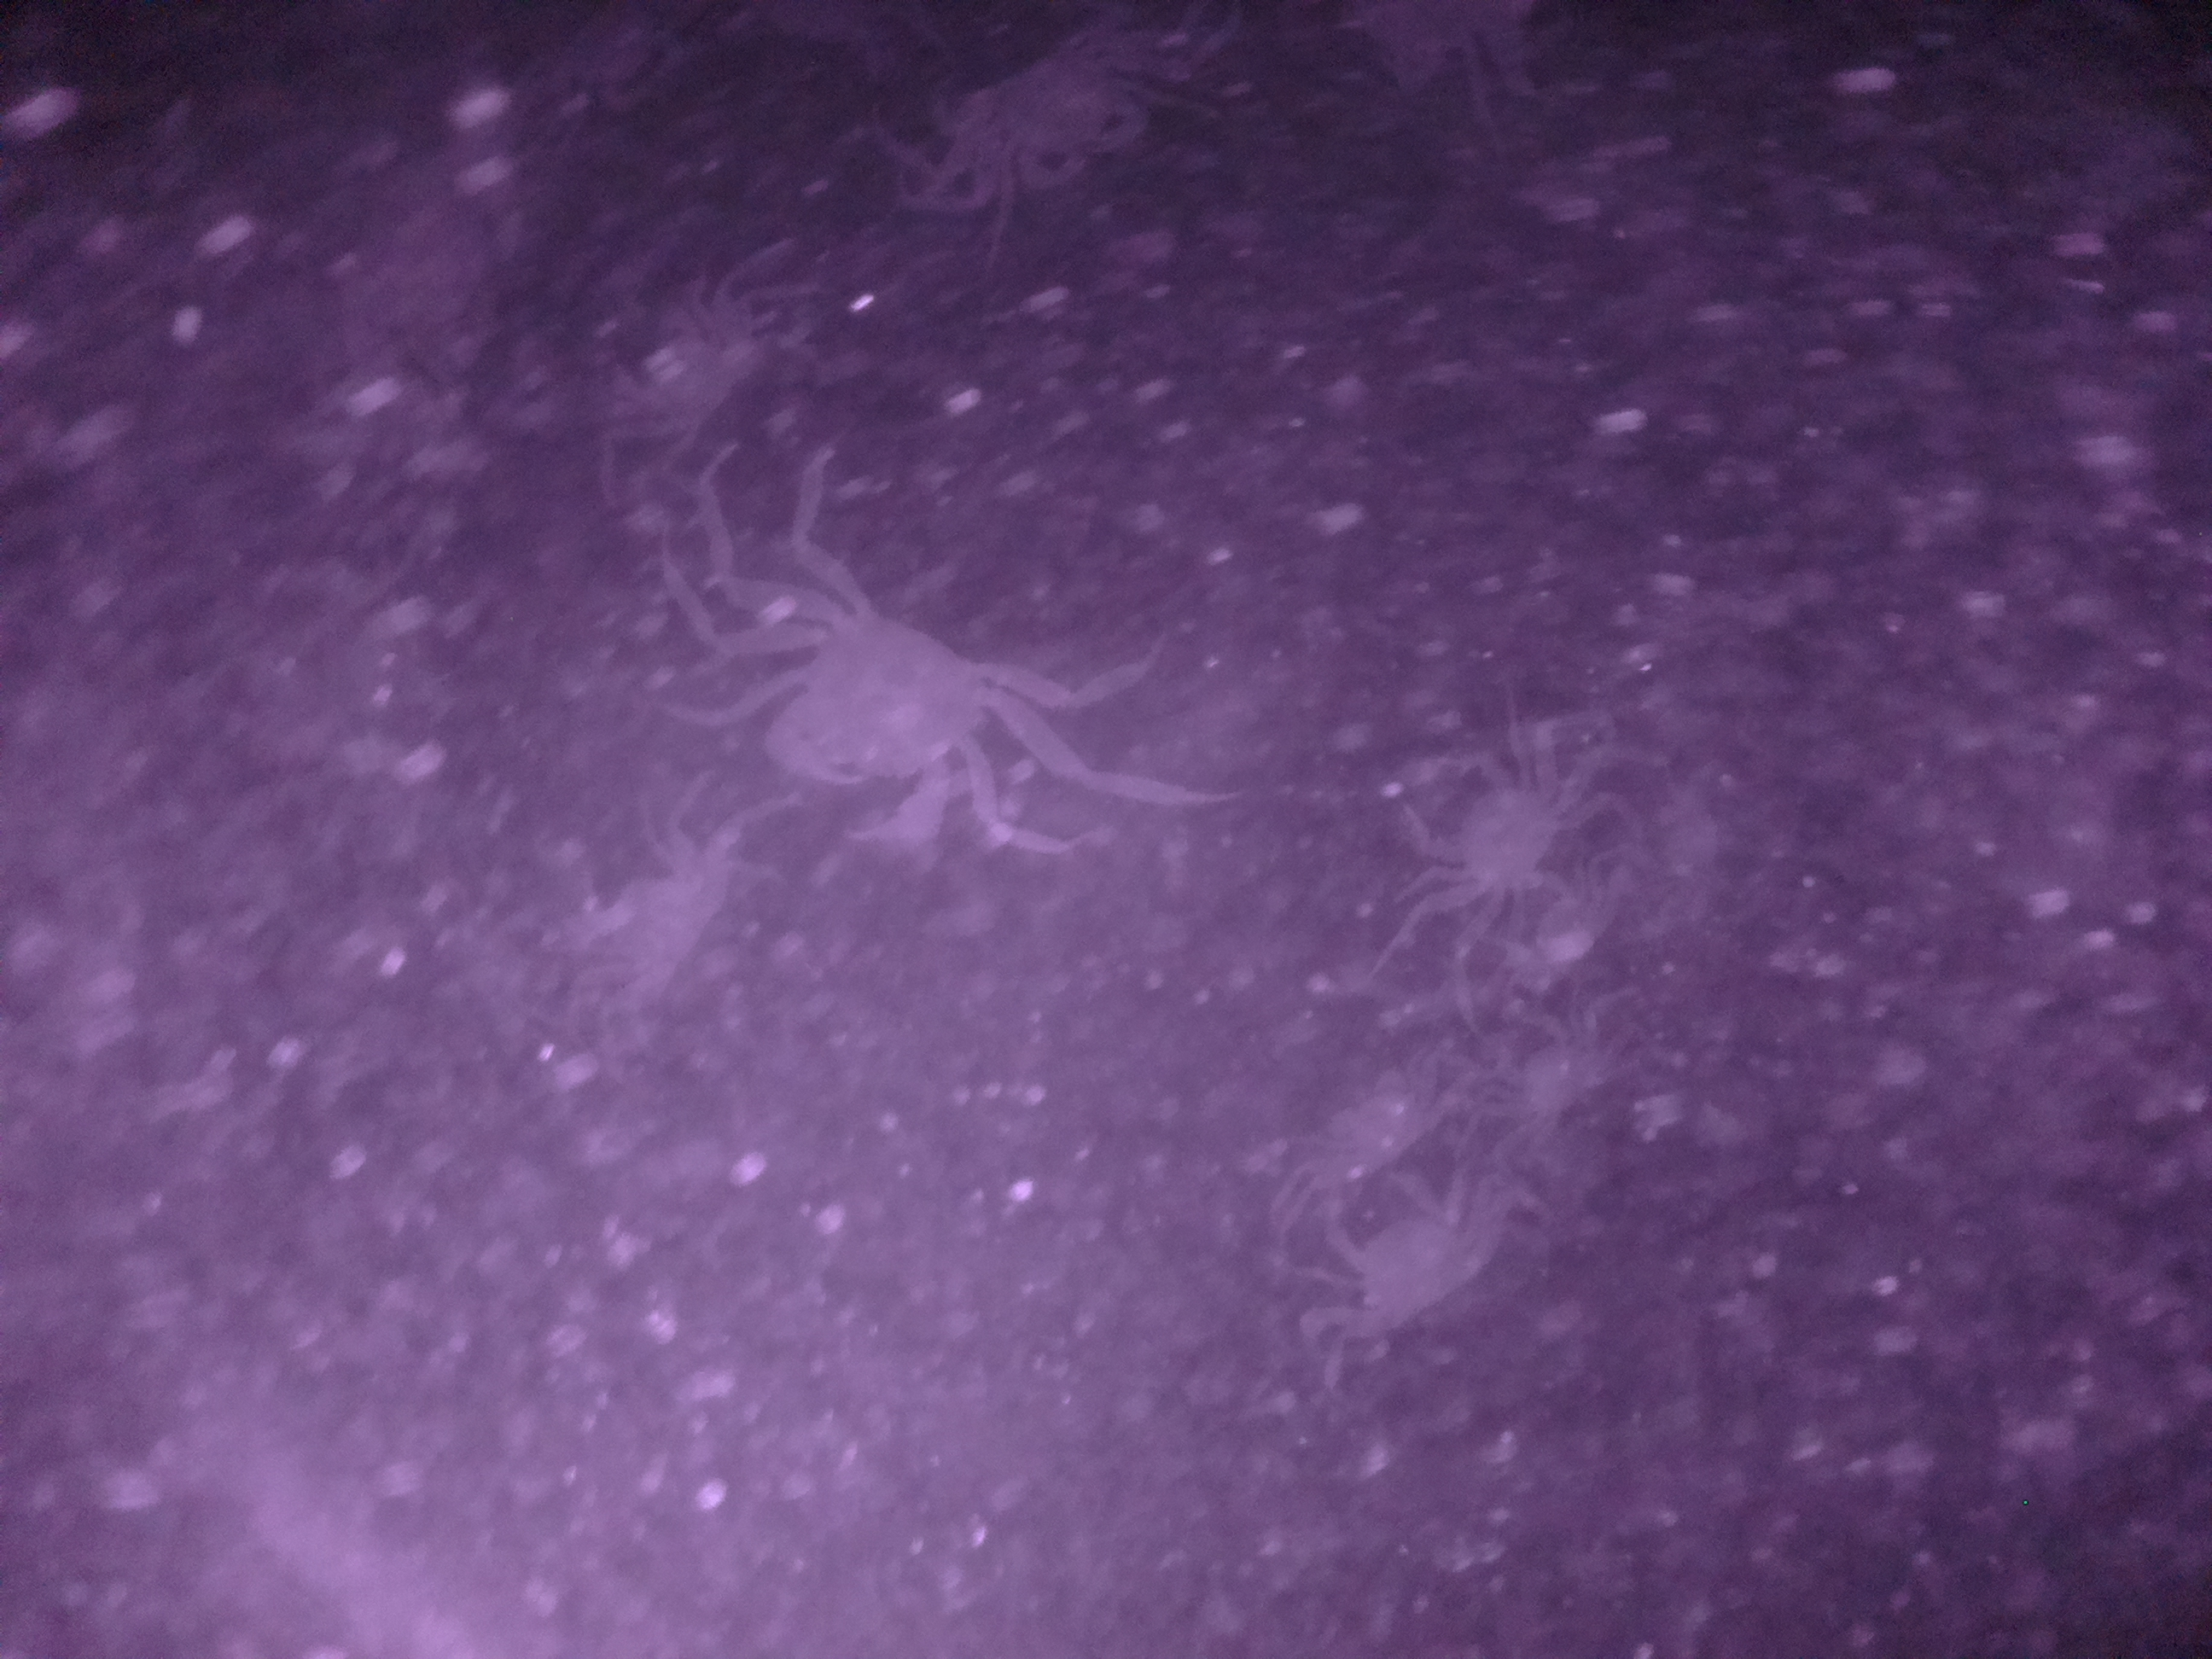Crab: (1310, 1129, 1505, 1344), (1385, 720, 1585, 915)
